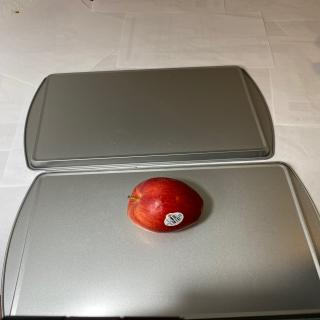Apple: (126, 177, 204, 233)
